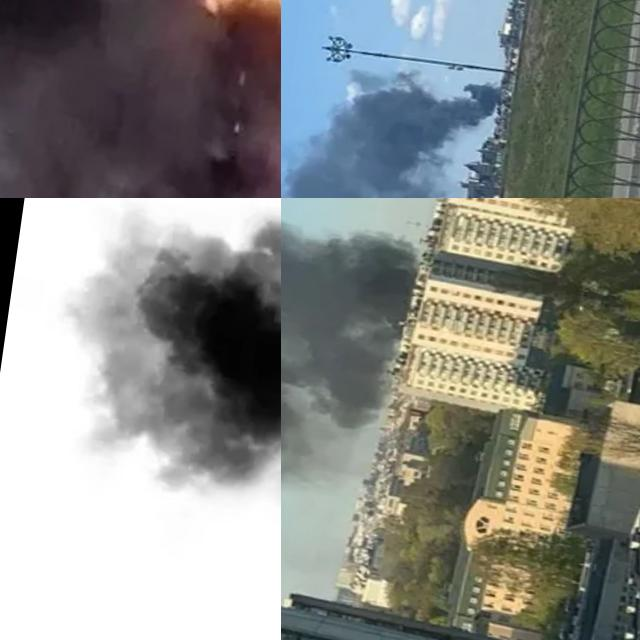smoke: (9, 198, 281, 640), (0, 0, 281, 198), (281, 198, 425, 487), (281, 46, 504, 198)
